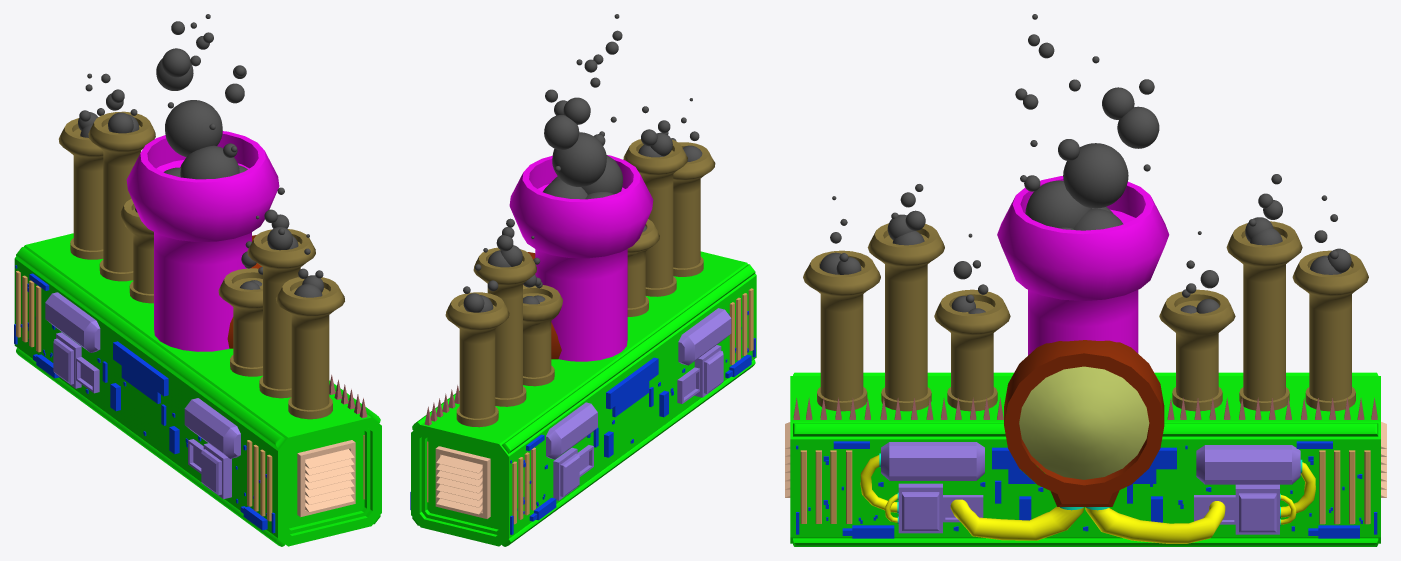
File: Big emission machine.fbx
3 renders of one model, left to right at view 1: azimuth 30°, elevation 25°; view 2: azimuth 150°, elevation 25°; view 3: azimuth 270°, elevation 25°, orthographic. The views are drawn at different scales.
Parts seen in each view (by area): view 1: pCube1, pCylinder37, pCylinder1, polySurface137, pSphere47, pCube174, pCube173, pSphere43, polySurface13, polySurface19, pCube175, pSphere45; view 2: pCube1, pCylinder37, pCylinder1, polySurface137, pSphere47, pCube174, pCube173, pSphere43, polySurface13, pSphere45, pCube175; view 3: pCube1, pCylinder37, pCylinder3, pCylinder1, polySurface137, pSphere47, pCylinder35, pCube173, pCube175, pSphere43, polySurface13, pSphere45 (+4 smaller).
Part boxes in pixels (box(x1,y1,x2,y2)): pCube1: box(14, 233, 381, 546); pCylinder37: box(58, 111, 344, 419); pCylinder1: box(126, 131, 279, 351); polySurface137: box(45, 292, 240, 499); pSphere47: box(156, 14, 247, 179); pCube174: box(297, 440, 355, 517); pCube173: box(14, 265, 275, 533); pSphere43: box(101, 73, 139, 133); polySurface13: box(264, 187, 298, 250); polySurface19: box(294, 234, 323, 297); pCube175: box(329, 374, 367, 418); pSphere45: box(78, 73, 104, 137); pCube1: box(411, 251, 756, 546); pCylinder37: box(445, 139, 715, 427); pCylinder1: box(509, 155, 653, 361); polySurface137: box(546, 308, 731, 500); pSphere47: box(543, 14, 622, 199); pCube174: box(435, 446, 490, 518); pCube173: box(410, 311, 755, 534); pSphere43: box(488, 218, 522, 267); polySurface13: box(638, 106, 672, 157); pSphere45: box(463, 248, 498, 312); pCube175: box(424, 385, 459, 425); pCube1: box(790, 372, 1380, 546); pCylinder37: box(803, 221, 1368, 411); pCylinder3: box(1004, 340, 1164, 498); pCylinder1: box(997, 176, 1169, 355); polySurface137: box(881, 442, 1300, 534); pSphere47: box(1015, 14, 1159, 230); pCylinder35: box(860, 455, 1315, 543); pCube173: box(796, 441, 1377, 538); pCube175: box(793, 397, 1377, 419); pSphere43: box(1245, 174, 1282, 245); polySurface13: box(887, 184, 925, 245); pSphere45: box(1310, 195, 1351, 274).
Bounding box in the file's own units: 3.35 × 9.99 × 10.89.
